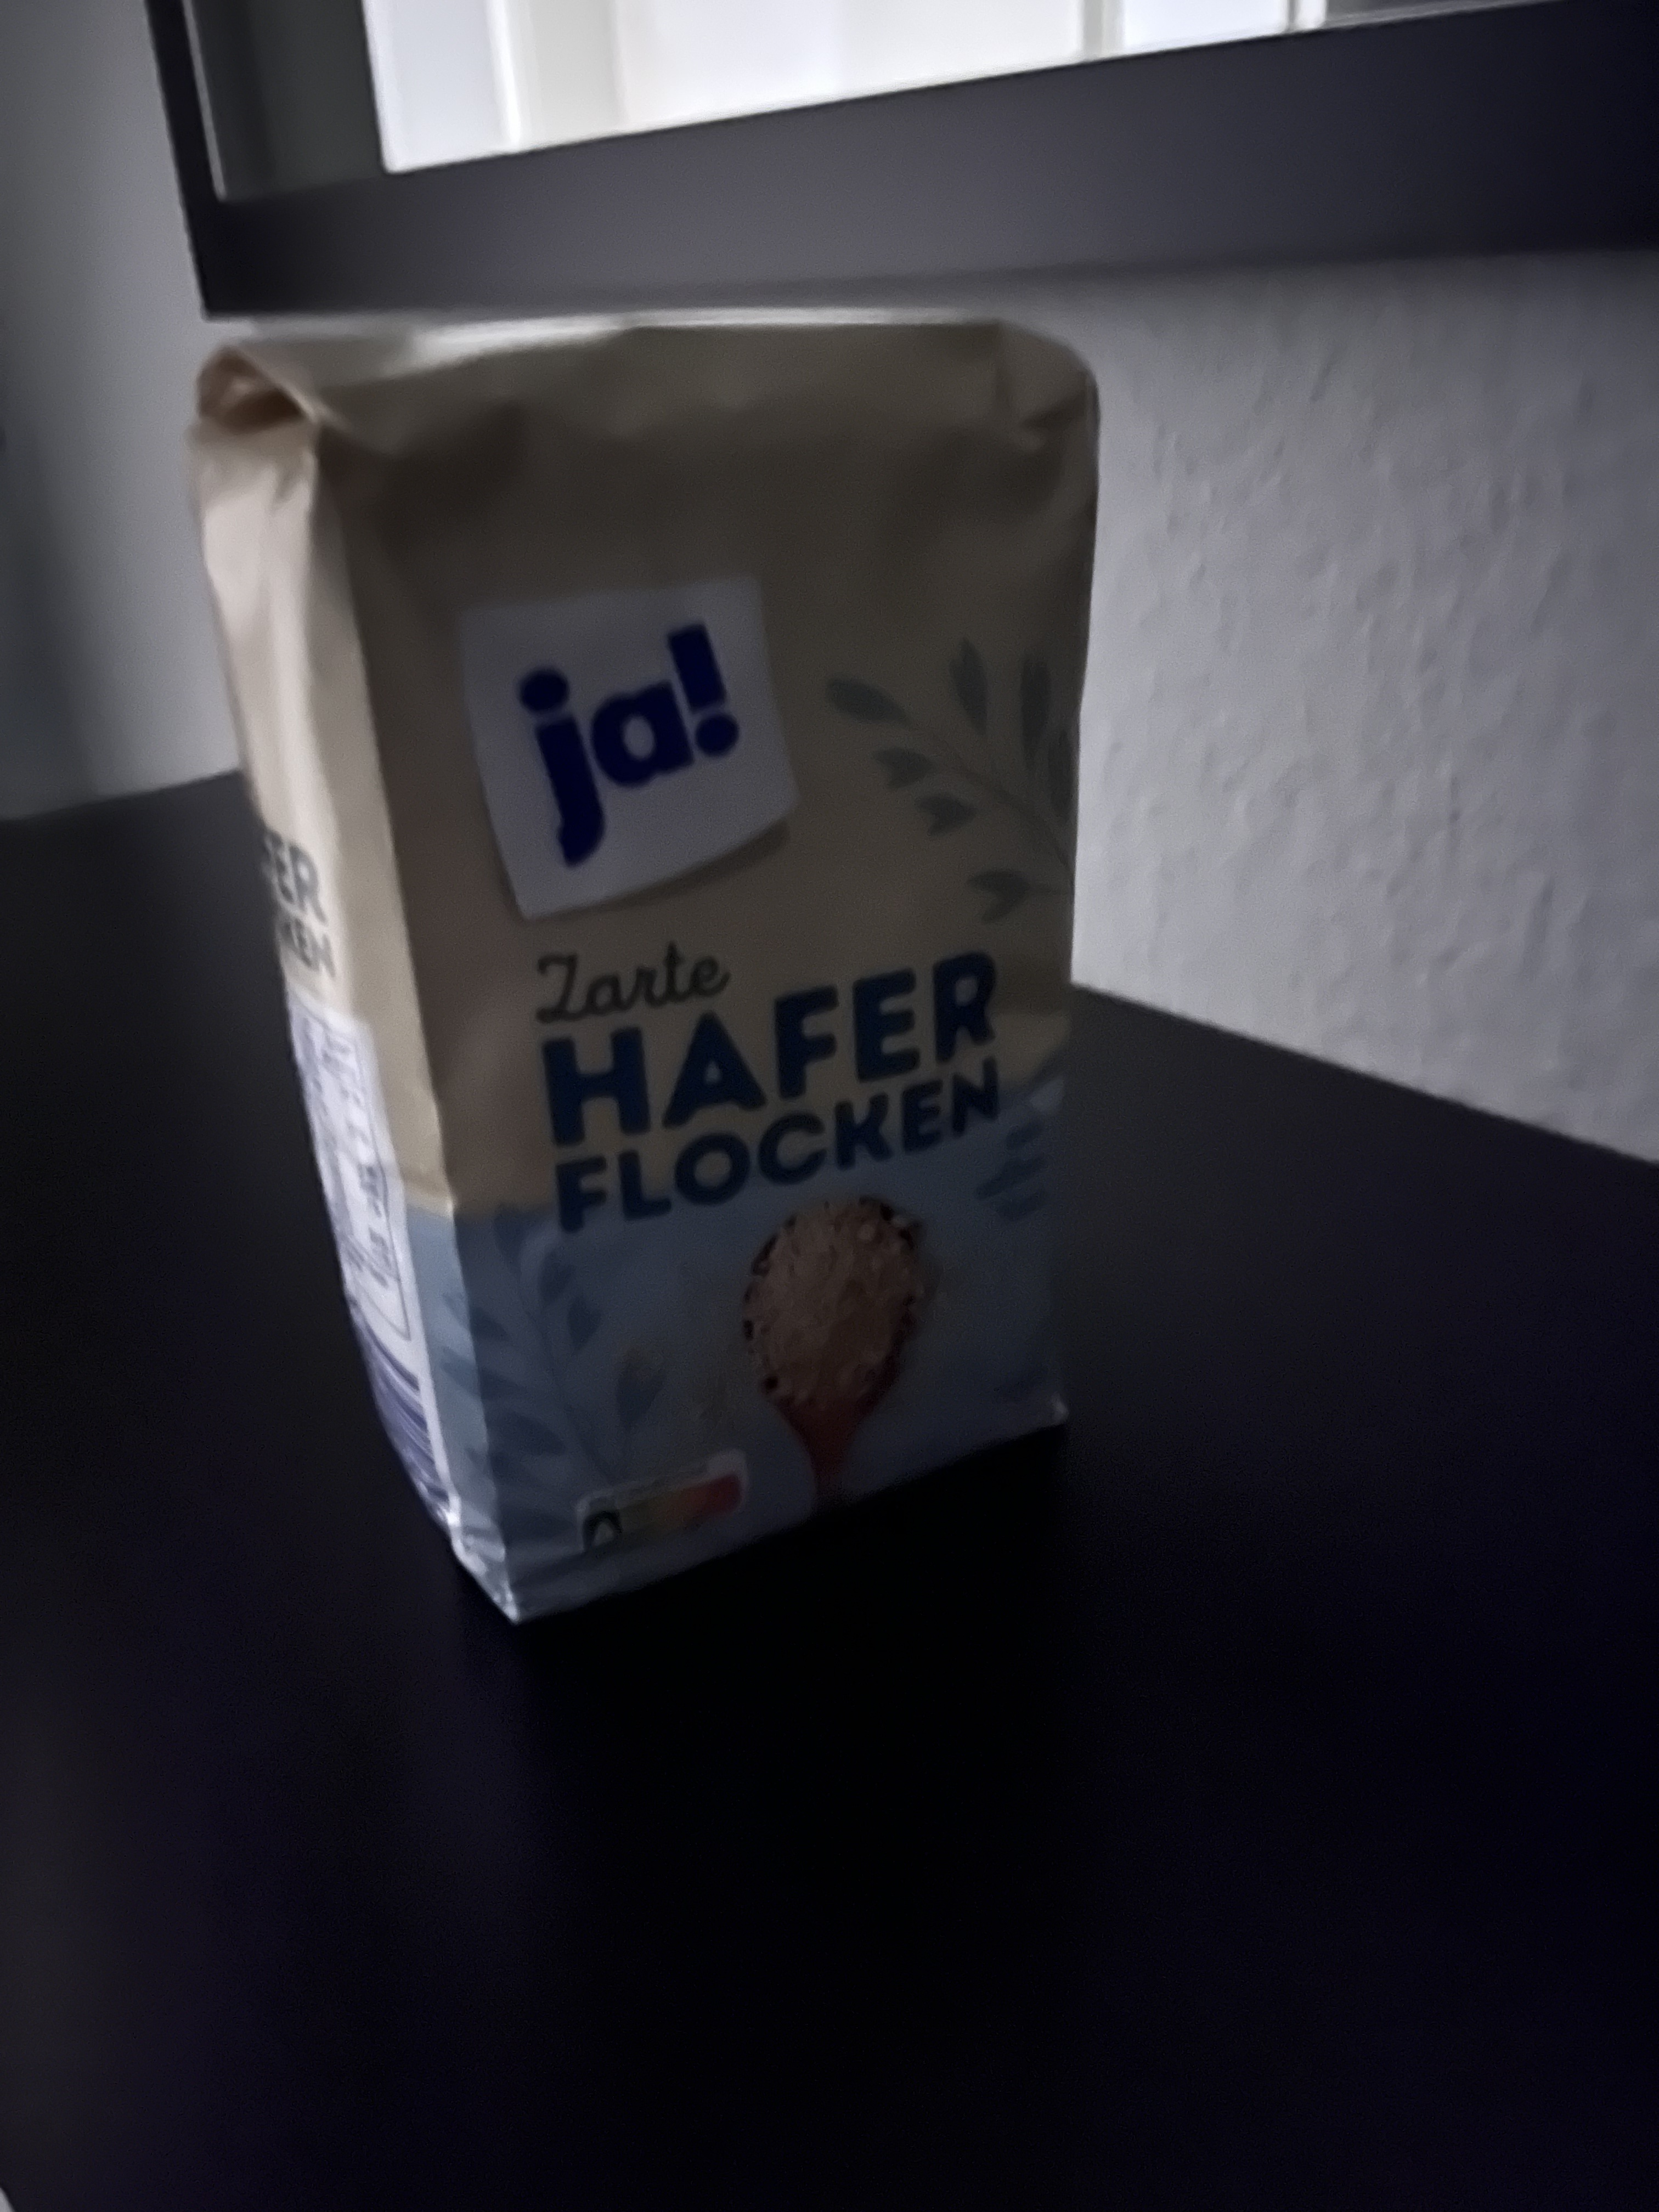haferflocken_ja: (167, 305, 1108, 1623)
